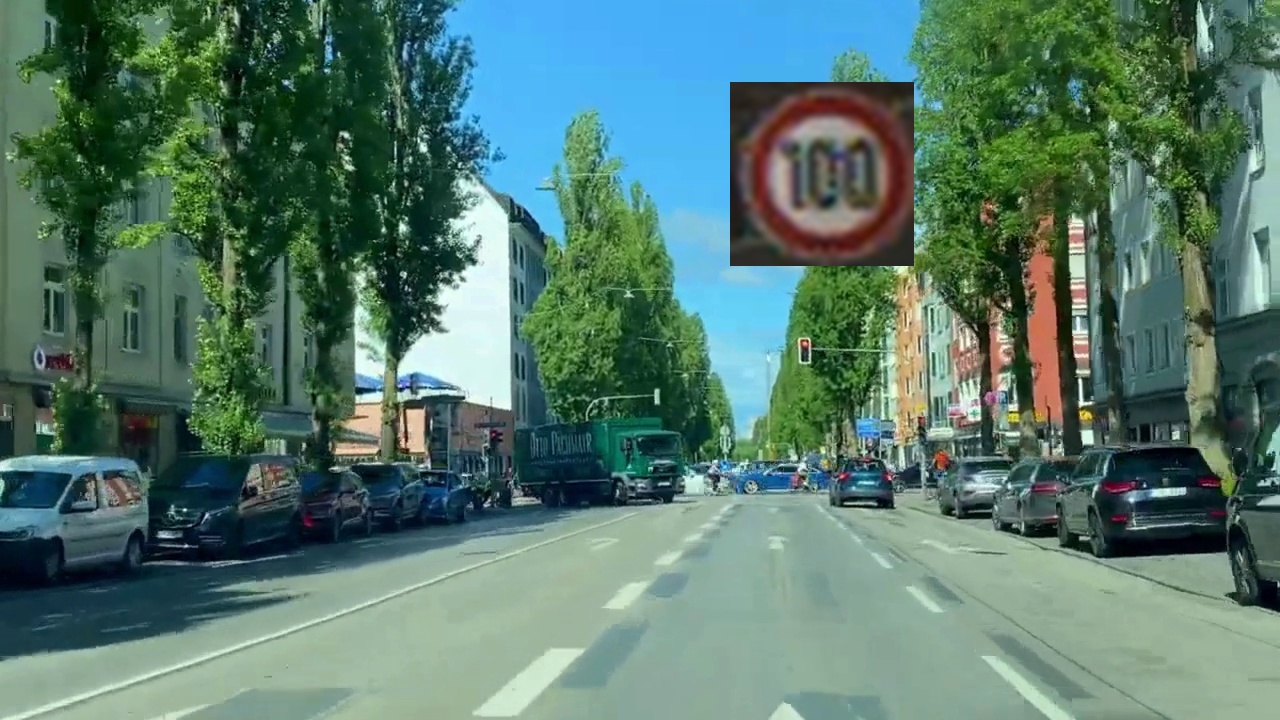Speed 100: (730, 82, 914, 266)
